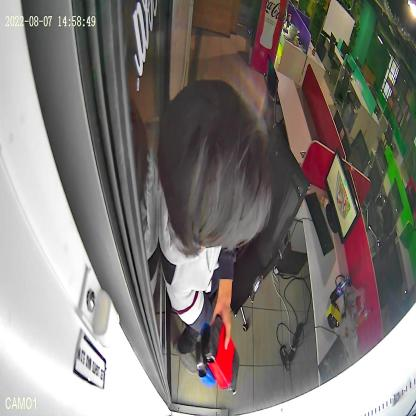blue: (196, 322, 216, 386)
red: (204, 314, 240, 396)
